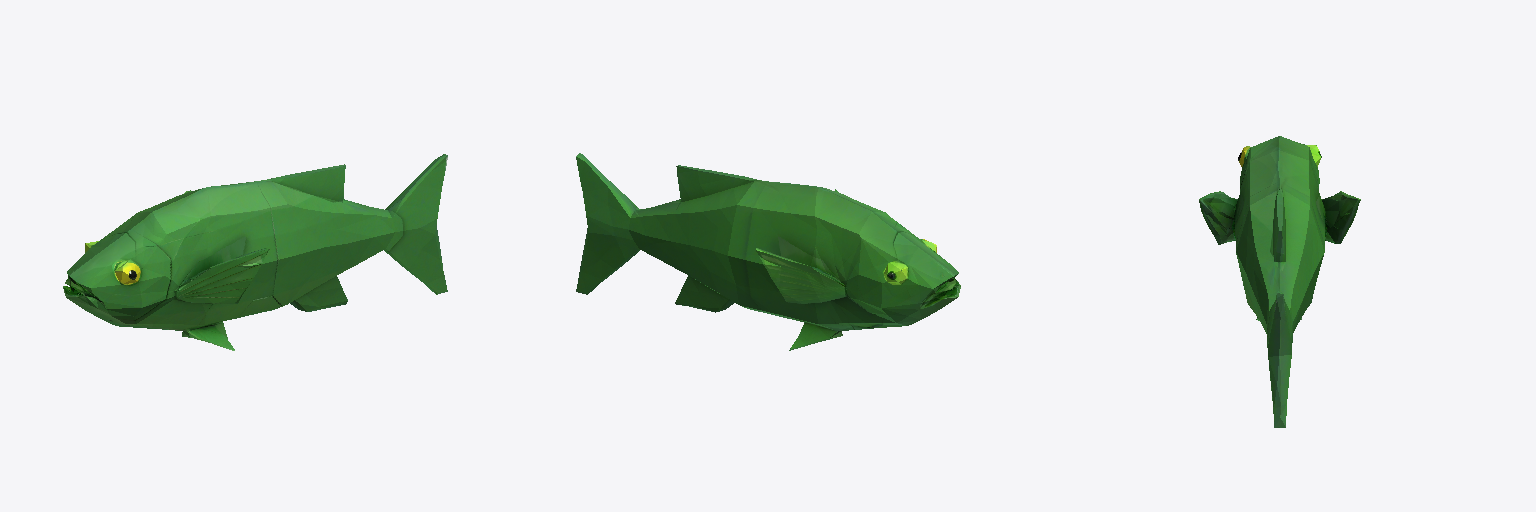
3 views of the same model, side by side, from view 1: azimuth 30°, elevation 25°; view 2: azimuth 150°, elevation 25°; view 3: azimuth 270°, elevation 25° (orthographic).
Visible parts, largest first — view 1: model; view 2: model; view 3: model.
Boxes of the visible parts, <box> form: model: <box>63,154,447,350</box>; model: <box>576,153,960,350</box>; model: <box>1199,136,1360,427</box>.
Size of the model in its own units: 2 by 0.8136 by 0.7393.
Materials: 1 (1 with a texture image).